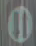Two way: (4, 2, 35, 44)
